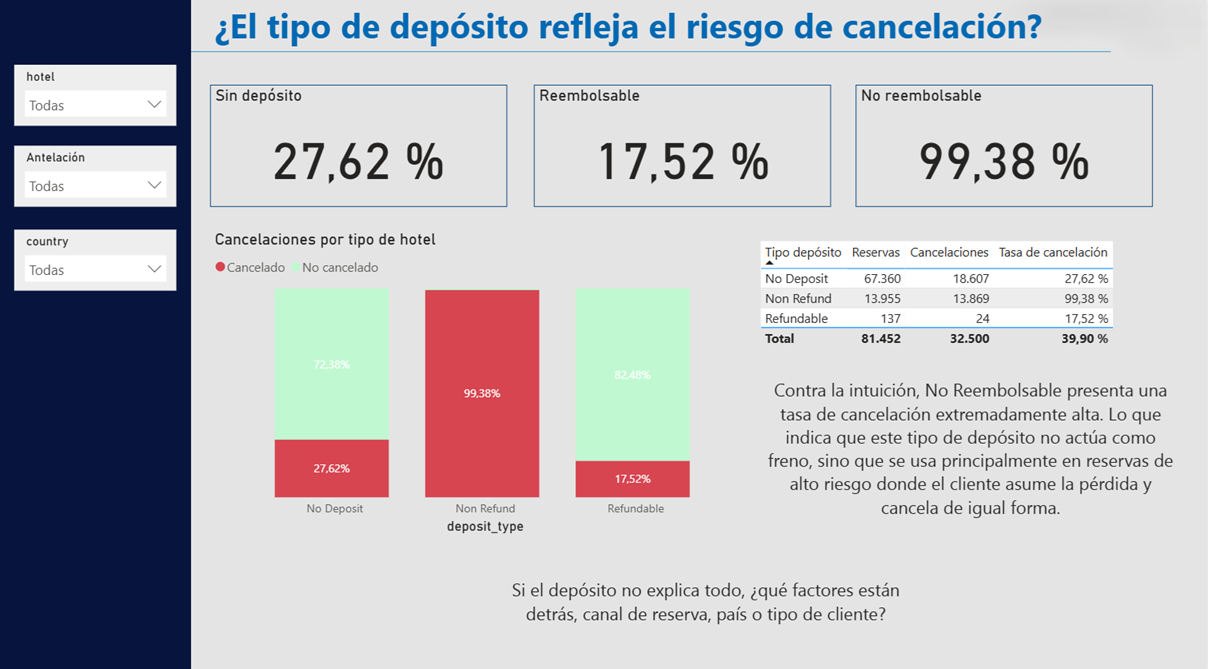

What the dashboard file says about the page in this screenshot:
{"tool":"powerbi","page":{"name":"Depósito de las reservas","canvas":[1280,720],"ordinal":3},"visuals":[{"type":"textbox","box":[223.7,0,902.6,64.2],"z":0},{"type":"hundredPercentStackedColumnChart","title":"Cancelaciones por tipo de hotel","fields":{"Category":["hotel_bookings.deposit_type"],"Y":["Medidas.Bookings"],"Series":["hotel_bookings.Estado Cancelacion"]},"box":[223.7,247.1,584.6,327.8],"z":4001},{"type":"card","title":"Sin depósito","fields":{"Values":["Medidas.CancelRate"]},"box":[223.7,93.4,315.1,129.4],"z":4002},{"type":"card","title":"No reembolsable","fields":{"Values":["Medidas.CancelRate"]},"box":[908.4,93.4,315.1,129.4],"z":4003},{"type":"card","title":"Reembolsable","fields":{"Values":["Medidas.CancelRate"]},"box":[567.1,93.4,315.1,129.4],"z":4004},{"type":"tableEx","title":"Cancelaciones por tipo de hotel","fields":{"Values":["hotel_bookings.deposit_type","Medidas.Bookings","Medidas.Cancellations","Medidas.CancelRate"]},"box":[801.5,254.8,422.1,132.3],"z":4005},{"type":"textbox","box":[808.3,399.8,445.5,168.3],"z":4006},{"type":"slicer","fields":{"Values":["hotel_bookings.hotel"]},"box":[15.6,72,172.2,65.2],"z":4007},{"type":"slicer","fields":{"Values":["hotel_bookings.LeadTime_Rango"]},"box":[15.6,157.6,172.2,65.2],"z":4008},{"type":"textbox","box":[527.2,611.8,445.5,100.2],"z":4009},{"type":"slicer","fields":{"Values":["hotel_bookings.country"]},"box":[15.6,247.1,172.2,65.2],"z":4010}]}

Visuals, with their boxes in screenshot pixels (x1, y1, x2, y2), scaled from the page's 1280x720 canvas onto the 1208x669 screenshot:
textbox: <region>211, 0, 1063, 60</region>
"Cancelaciones por tipo de hotel" hundredPercentStackedColumnChart: <region>211, 230, 763, 534</region>
"Sin depósito" card: <region>211, 87, 508, 207</region>
"No reembolsable" card: <region>857, 87, 1155, 207</region>
"Reembolsable" card: <region>535, 87, 833, 207</region>
"Cancelaciones por tipo de hotel" tableEx: <region>756, 237, 1155, 360</region>
textbox: <region>763, 371, 1183, 528</region>
slicer - hotel_bookings.hotel: <region>15, 67, 177, 127</region>
slicer - hotel_bookings.LeadTime_Rango: <region>15, 146, 177, 207</region>
textbox: <region>498, 568, 918, 662</region>
slicer - hotel_bookings.country: <region>15, 230, 177, 290</region>
